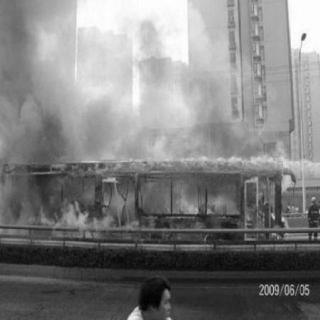Fire: (205, 194, 222, 214), (267, 228, 281, 242), (244, 205, 254, 223)
Smoke: (1, 4, 73, 160), (191, 79, 231, 151), (138, 19, 162, 92), (3, 176, 37, 218), (121, 119, 153, 159), (65, 203, 89, 224)
